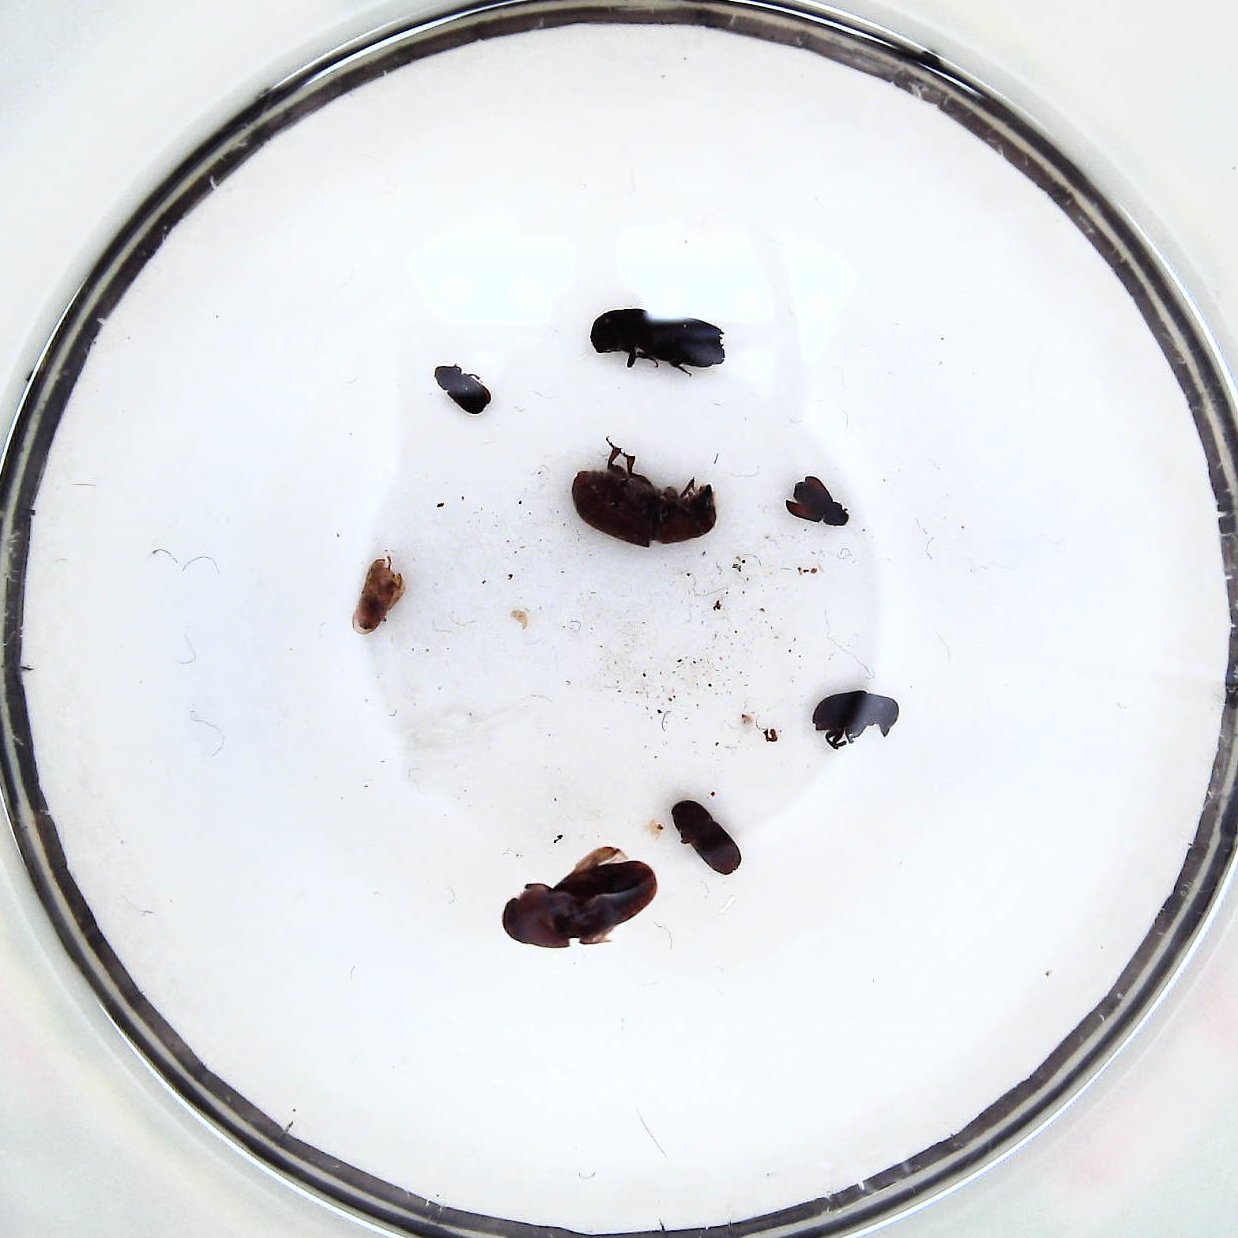Boerner: (591, 308, 724, 366)
Leconte: (502, 860, 658, 948), (573, 469, 716, 546)
acuminatus: (787, 476, 849, 528), (435, 365, 491, 415)
armandi: (813, 692, 898, 739)
coleoptera: (353, 557, 404, 634)
linnaeus: (672, 802, 741, 876)
